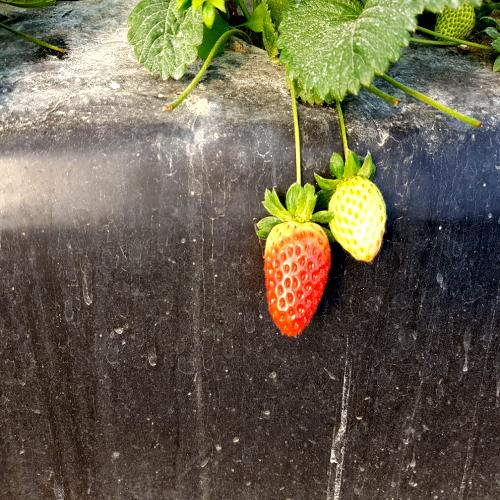ripe: (257, 206, 332, 348)
